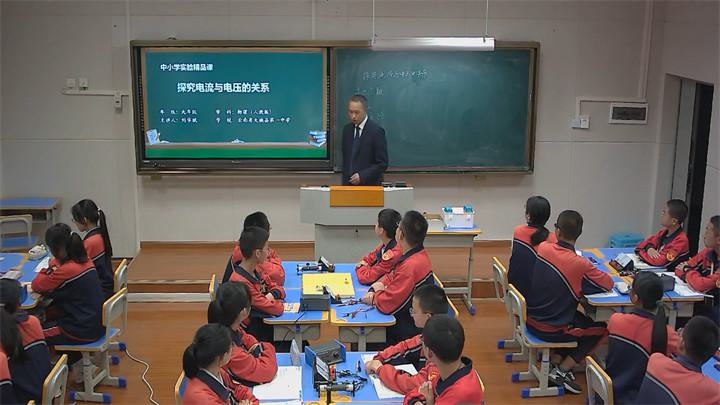bow: (36, 222, 86, 305)
listen: (406, 317, 477, 405), (666, 303, 717, 405), (550, 199, 594, 301), (610, 264, 666, 343), (180, 320, 234, 398), (507, 176, 548, 271), (356, 196, 399, 282), (229, 222, 281, 290), (640, 187, 689, 254), (692, 200, 720, 279)
